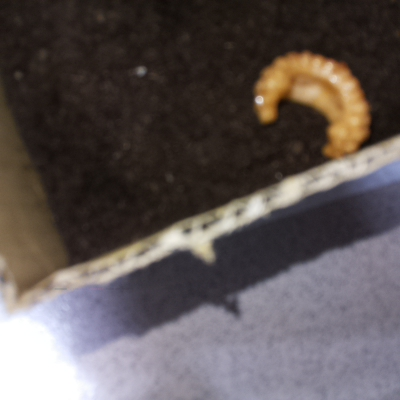eggs: (248, 49, 373, 157)
